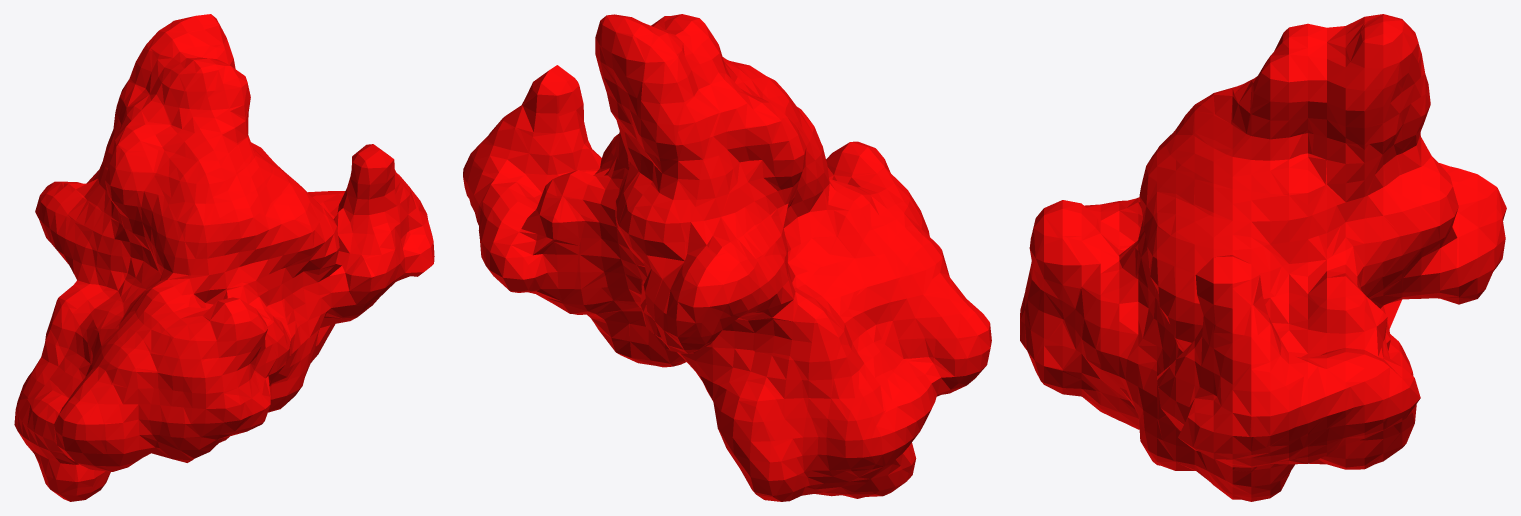
Rendered from Vitamin_D_binding_protein_coarse.dae.
3 renders of one model, left to right at view 1: azimuth 30°, elevation 25°; view 2: azimuth 150°, elevation 25°; view 3: azimuth 270°, elevation 25°, orthographic. The views are drawn at different scales.
Parts seen in each view (by area): view 1: Vitamin_D_binding_protein; view 2: Vitamin_D_binding_protein; view 3: Vitamin_D_binding_protein.
Boxes of the visible parts, x1,y1,x2,y2 form: Vitamin_D_binding_protein: [14, 14, 434, 501]; Vitamin_D_binding_protein: [463, 14, 991, 501]; Vitamin_D_binding_protein: [1020, 14, 1506, 501].
Size of the model in its own units: 103 by 97.8 by 79.43.
